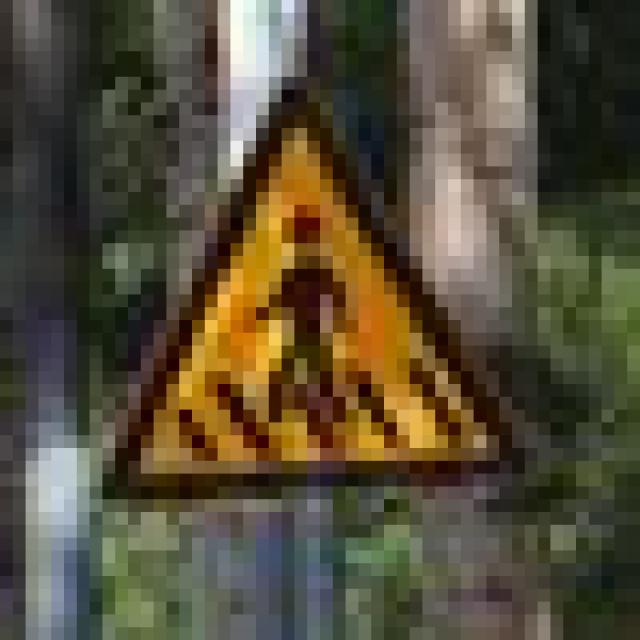pass_either_side: (90, 64, 499, 474)
